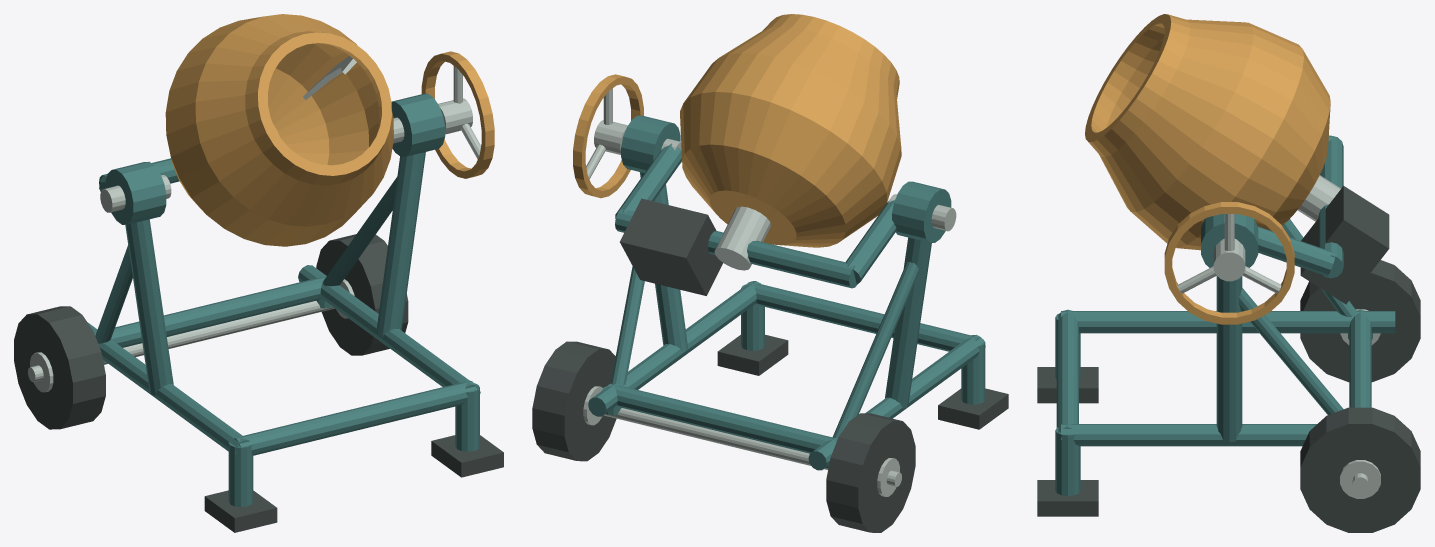
The picture shows the model from 3 angles, left to right: view 1: azimuth 30°, elevation 25°; view 2: azimuth 150°, elevation 25°; view 3: azimuth 270°, elevation 25°; orthographic projection. The views are drawn at different scales.
Visible parts, largest first — view 1: Drum_ThickPearShell, Wheel_Left, BaseCrossbar_Front, BearingPost_Right, Wheel_Right, BearingPost_Left, BaseCrossbar_Rear, BaseRail_Right, BaseRail_Left, Handwheel_Rim, Bearing_Left, Bearing_Right (+10 smaller); view 2: Drum_ThickPearShell, Wheel_Left, Wheel_Right, Motor_Shroud, BaseCrossbar_Rear, BaseCrossbar_Front, BaseRail_Right, BearingPost_Left, Cradle_RearCrossbar, Handwheel_Rim, BaseRail_Left, FrameBrace_Left (+14 smaller); view 3: Drum_ThickPearShell, Wheel_Right, Wheel_Left, BaseRail_Left, Motor_Shroud, BaseRail_Right, Handwheel_Rim, BearingPost_Right, BaseCrossbar_Front, FrameBrace_Right, BaseCrossbar_Rear, Foot_Right (+9 smaller).
Part boxes in pixels (x1,y1,x2,y2): Drum_ThickPearShell: (165, 14, 393, 246); Wheel_Left: (14, 306, 105, 429); BaseCrossbar_Front: (234, 380, 476, 455); BearingPost_Right: (376, 152, 425, 337); Wheel_Right: (316, 234, 408, 355); BearingPost_Left: (125, 219, 173, 395); BaseCrossbar_Rear: (94, 275, 326, 347); BaseRail_Right: (298, 265, 480, 395); BaseRail_Left: (87, 322, 249, 454); Handwheel_Rim: (421, 51, 494, 178); Bearing_Left: (105, 161, 166, 224); Bearing_Right: (391, 93, 445, 156); Drum_ThickPearShell: (680, 14, 901, 247); Wheel_Left: (826, 413, 915, 532); Wheel_Right: (532, 341, 616, 461); Motor_Shroud: (620, 198, 722, 295); BaseCrossbar_Rear: (607, 383, 837, 453); BaseCrossbar_Front: (746, 281, 979, 351); BaseRail_Right: (588, 281, 760, 416); BearingPost_Left: (885, 237, 931, 408); Cradle_RearCrossbar: (615, 209, 857, 288); Handwheel_Rim: (573, 74, 643, 198); BaseRail_Left: (808, 334, 985, 470); FrameBrace_Left: (833, 261, 918, 438); Drum_ThickPearShell: (1085, 14, 1330, 250); Wheel_Right: (1300, 407, 1420, 532); Wheel_Left: (1300, 260, 1420, 382); BaseRail_Left: (1061, 311, 1395, 333); Motor_Shroud: (1300, 186, 1389, 304); BaseRail_Right: (1061, 424, 1316, 446); Handwheel_Rim: (1164, 202, 1294, 324); BearingPost_Right: (1216, 276, 1242, 442); BaseCrossbar_Front: (1056, 309, 1078, 432); FrameBrace_Right: (1239, 288, 1343, 414); BaseCrossbar_Rear: (1349, 309, 1371, 407); Foot_Right: (1037, 480, 1098, 516).
Bounding box in the file's own units: 1.56 × 1.69 × 1.38.
